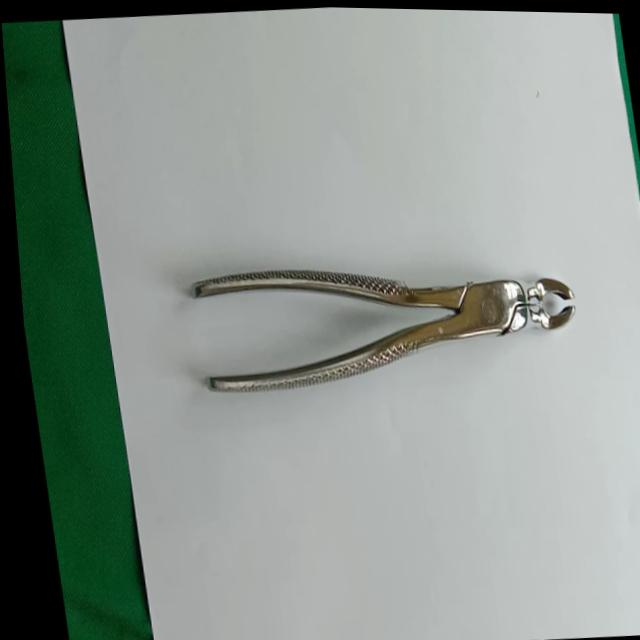BayonetForcep: (173, 244, 594, 421)
